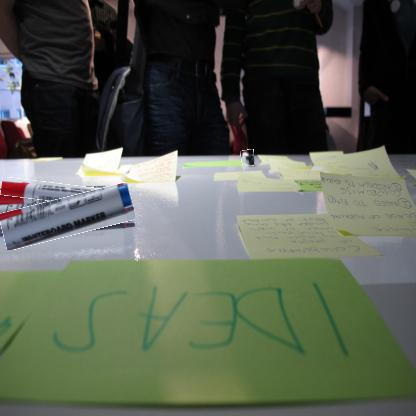Pen: (0, 190, 135, 244), (0, 180, 130, 207), (240, 150, 255, 166)
